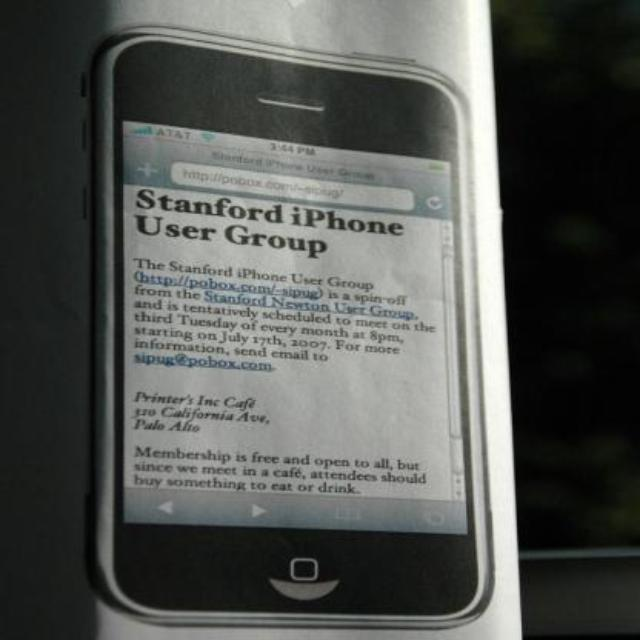Smartphone: (84, 17, 528, 633)
